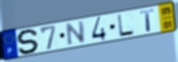4: (90, 16, 109, 42)
7: (38, 24, 58, 51)
L: (116, 14, 136, 38)
N: (65, 20, 86, 47)
S: (16, 28, 40, 55)
T: (139, 8, 156, 33)
